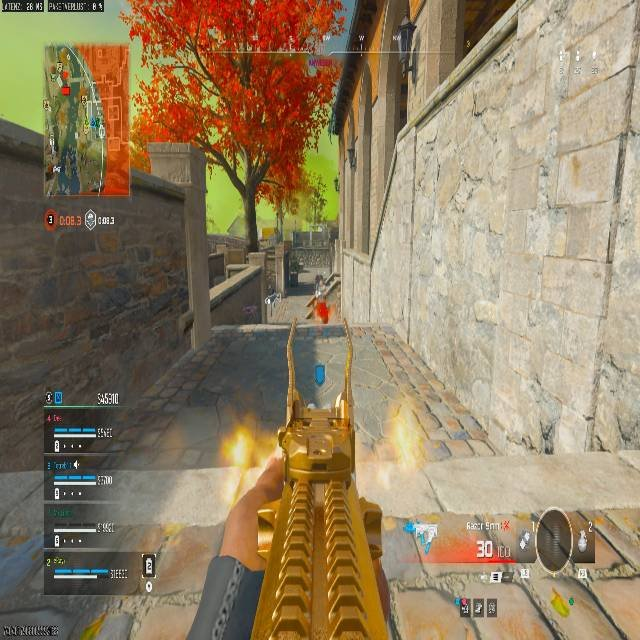head: (315, 273, 323, 283)
player: (307, 273, 329, 323)
